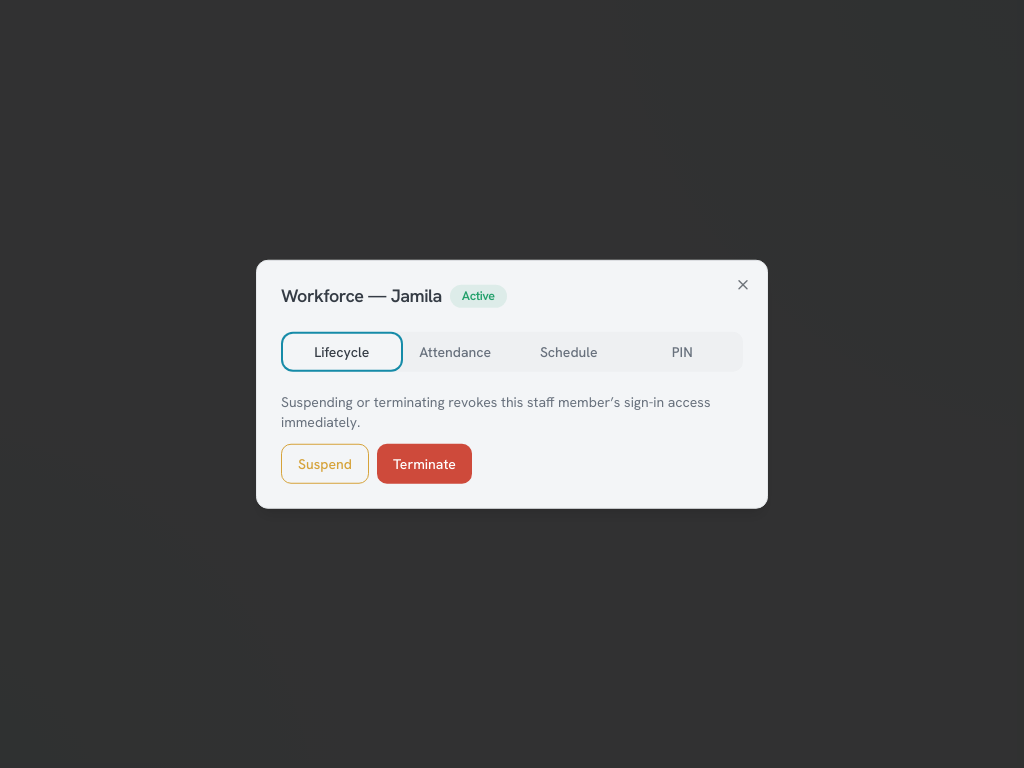
StaffWorkforceDialog section loading adoption (#208) › renders the shared LoadingState (status region) for the attendance tab, not a bespoke animate-pulse block
What coordinates should you click on to do the following:
click the tab "Attendance"
I would click on:
 (455, 351)
Its box is [398,335,512,367].
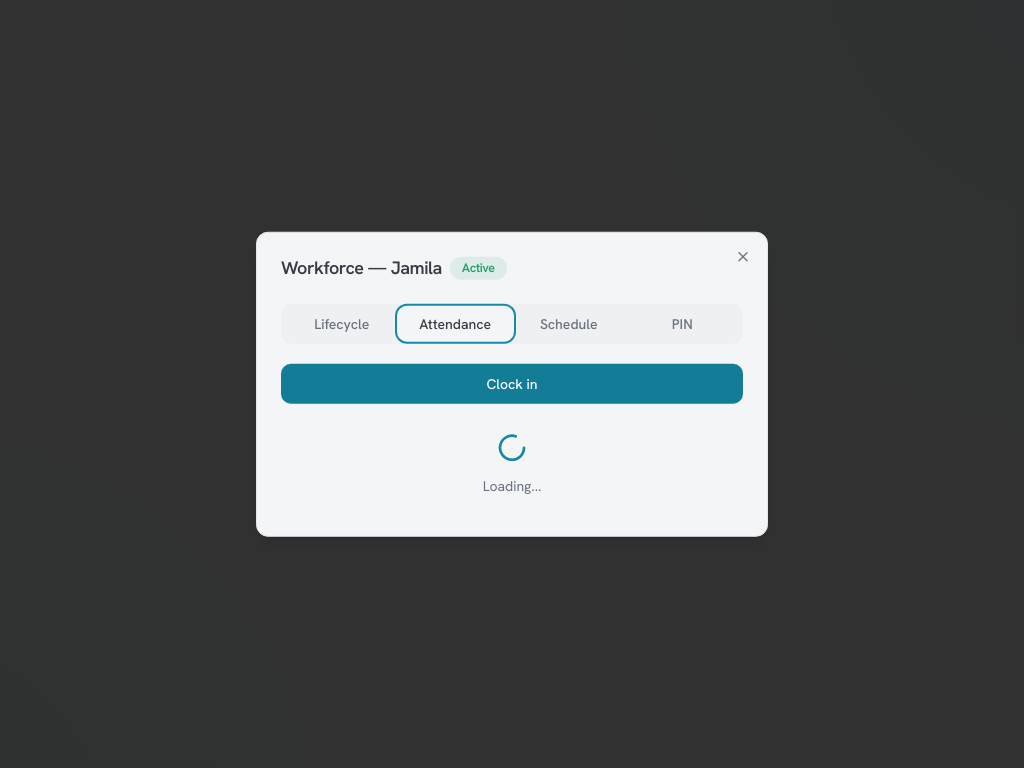
Expected: the message "Loading..." is shown, [483,431,541,494]
